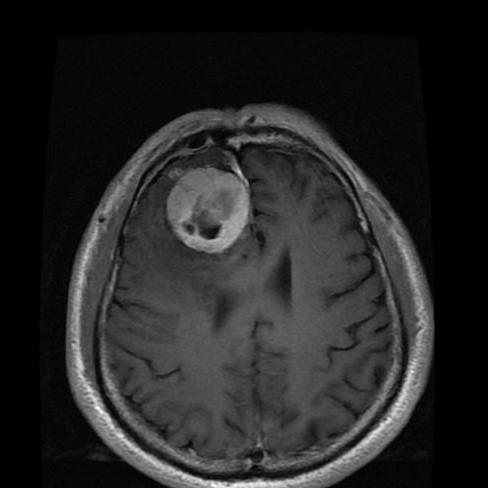Tumour-Meningioma: (152, 155, 283, 264)
